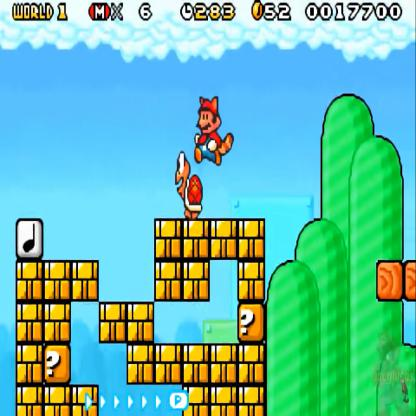Mario: (191, 96, 237, 164)
koopa: (174, 150, 204, 216)
moneda: (249, 0, 267, 27)
